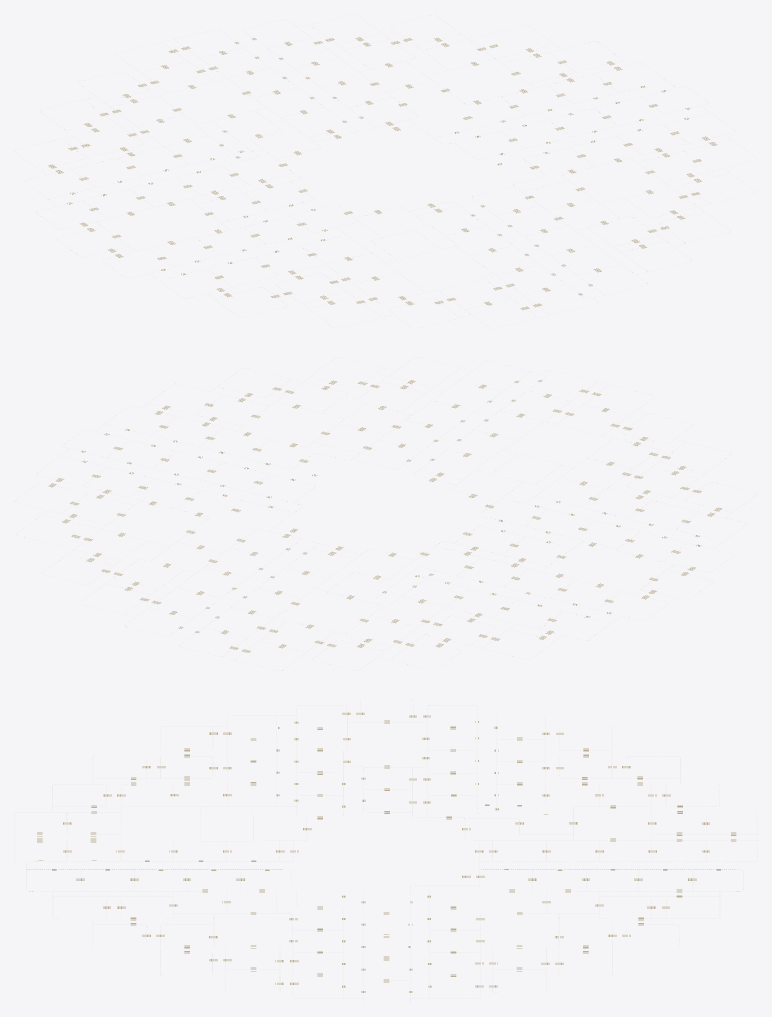
The model's file is D8_Markings.fbx.
3 views of the same model, one above another, from view 1: azimuth 30°, elevation 25°; view 2: azimuth 150°, elevation 25°; view 3: azimuth 270°, elevation 25° (orthographic).
Bounding box in the file's own units: 231299 × 3.73 × 239622.
